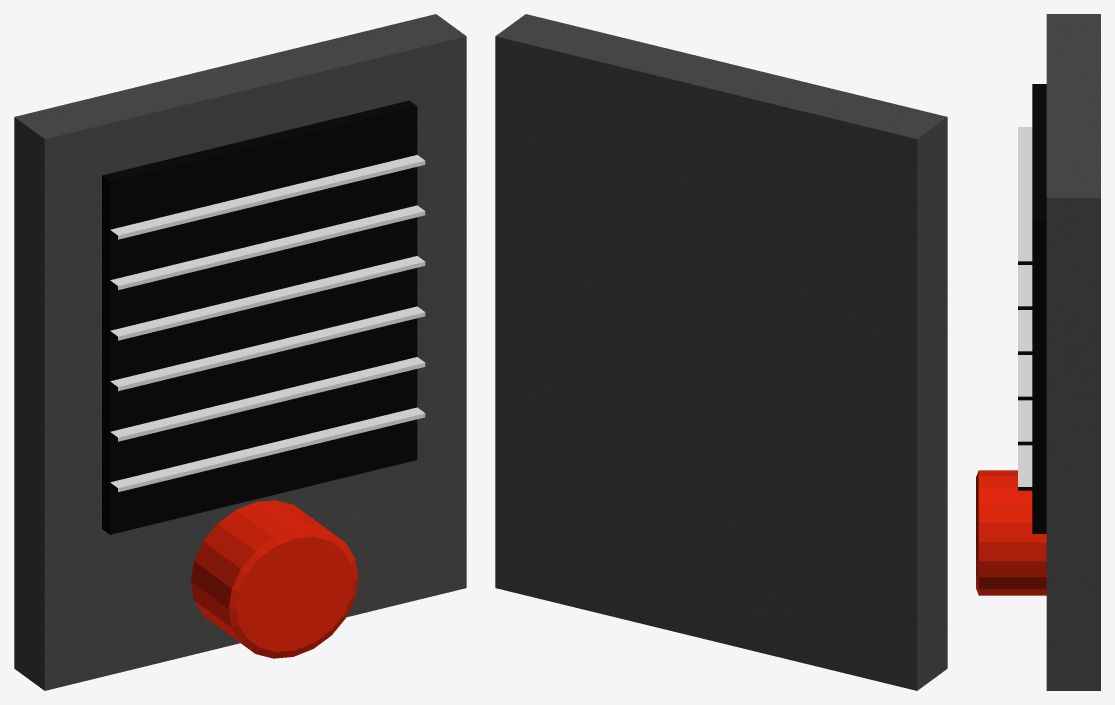
Rendered from boss button.glb.
3 views of the same model, side by side, from view 1: azimuth 30°, elevation 25°; view 2: azimuth 150°, elevation 25°; view 3: azimuth 270°, elevation 25° (orthographic). The views are drawn at different scales.
Parts seen in each view (by area): view 1: Cube, Cube.001; view 2: Cube; view 3: Cube, Cube.001.
Boxes of the visible parts, x1,y1,x2,y2 form: Cube: [14, 14, 466, 690]; Cube.001: [191, 500, 358, 658]; Cube: [495, 14, 947, 690]; Cube: [1018, 14, 1100, 690]; Cube.001: [976, 470, 1046, 595].
Size of the model in its own units: 1.6 by 2 by 0.4593.
4 materials, 1 textured.
